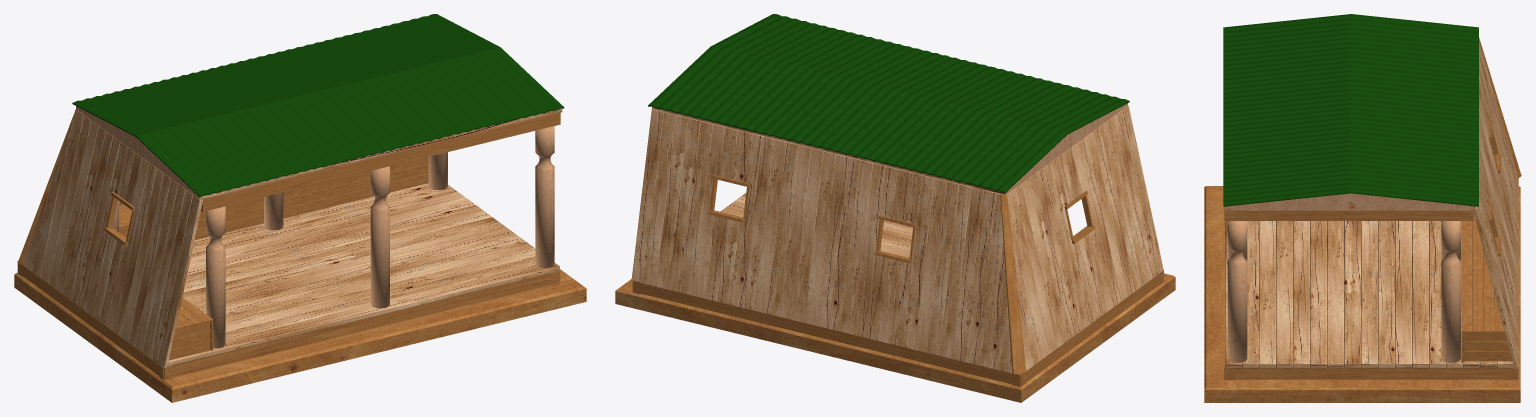
The model's file is balagan.glb.
3 renders of one model, left to right at view 1: azimuth 30°, elevation 25°; view 2: azimuth 150°, elevation 25°; view 3: azimuth 270°, elevation 25°, orthographic. The views are drawn at different scales.
Visible parts, largest first — view 1: Скамыйа; view 2: Скамыйа; view 3: Скамыйа.
Part boxes in pixels (box(x1,y1,x2,y2)): Скамыйа: box(14, 14, 586, 402); Скамыйа: box(615, 14, 1175, 402); Скамыйа: box(1204, 14, 1521, 402).
Bounding box in the file's own units: 6.34 × 2.99 × 4.18.
Materials: 4 (3 with a texture image).
